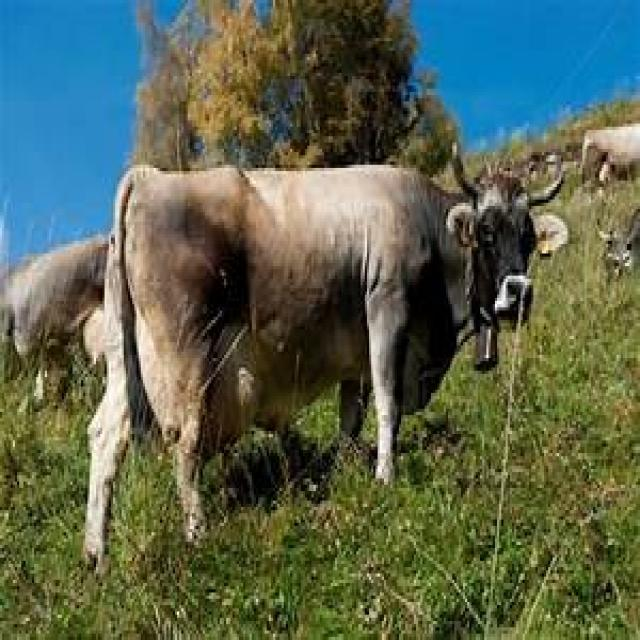cow: (79, 165, 567, 570)
